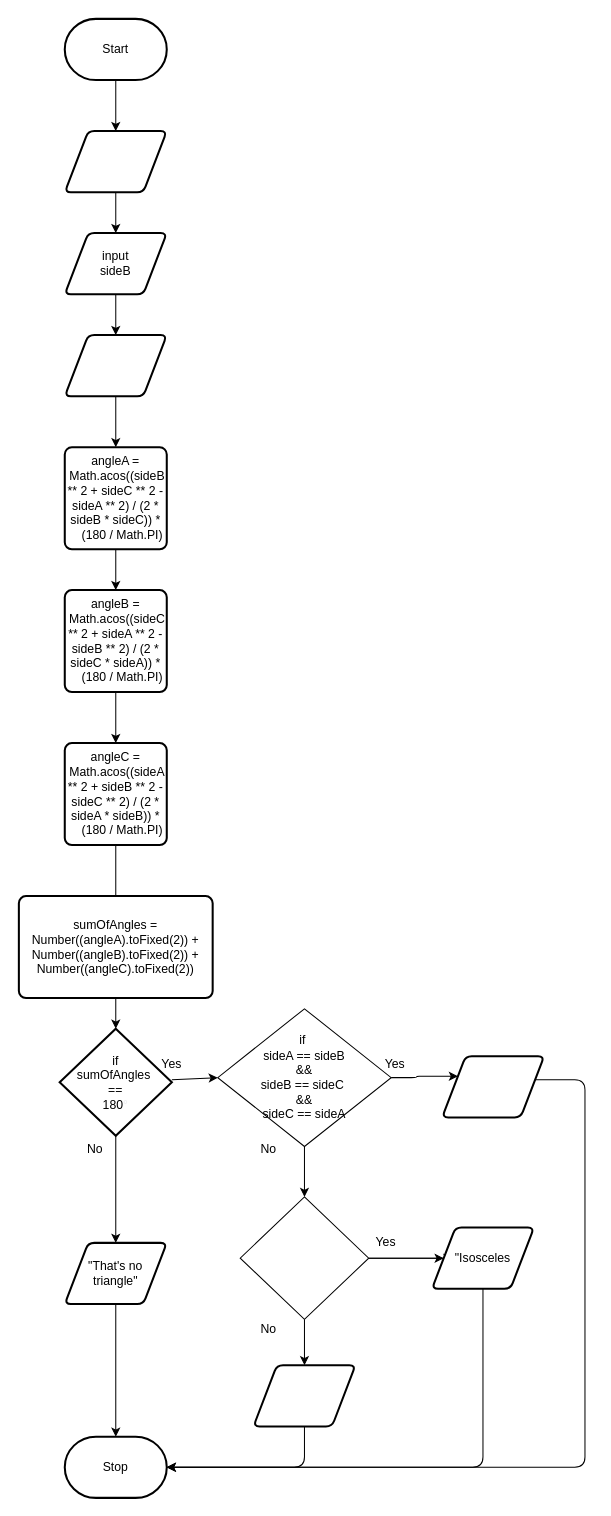
Some shapes in this 611 by 1516 pixel diagram are drawn without their labels. The shapes that lost their labels are listed below. From the top down, each one's centre as x and y in pixels, then its label:
(x=115, y=161): input sideA
(x=115, y=365): input sideC
(x=493, y=1086): "Equilateral"
(x=304, y=1257): if sideA == sideB || sideB == sideC || sideC ==side A
(x=304, y=1395): "Scalene"
